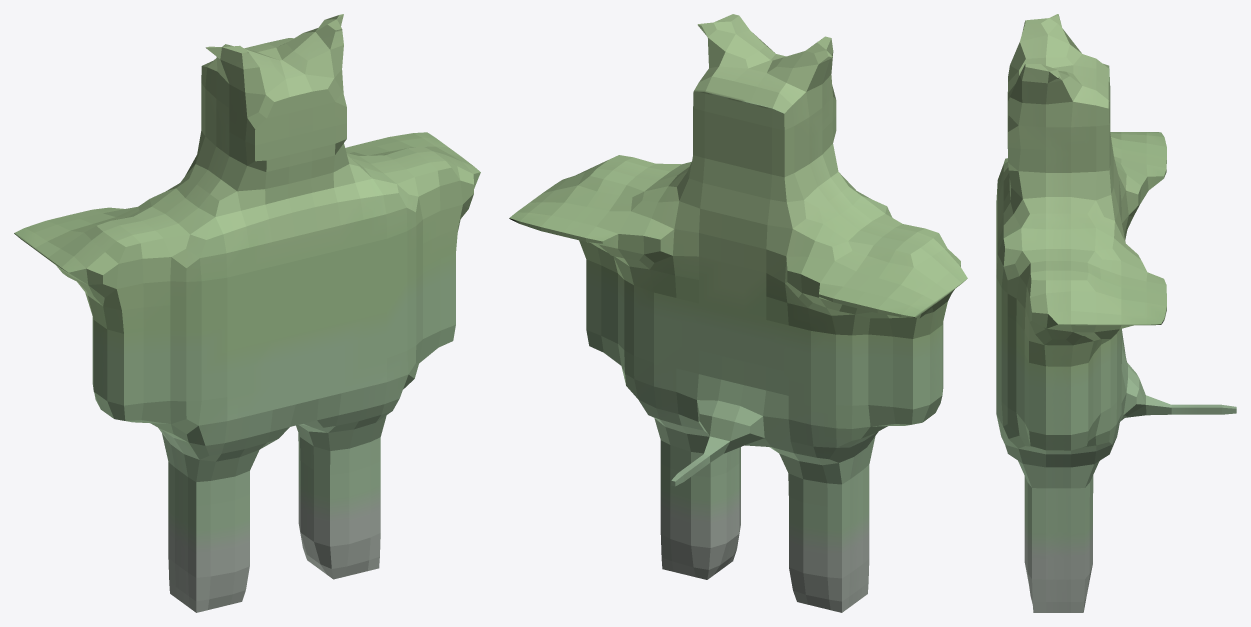
Rendered from incubus.glb.
3 renders of one model, left to right at view 1: azimuth 30°, elevation 25°; view 2: azimuth 150°, elevation 25°; view 3: azimuth 270°, elevation 25°, orthographic. The views are drawn at different scales.
Parts seen in each view (by area): view 1: geometry_0; view 2: geometry_0; view 3: geometry_0.
Part boxes in pixels (x1=…): geometry_0: x1=14, y1=14, x2=480, y2=612; geometry_0: x1=509, y1=14, x2=967, y2=612; geometry_0: x1=996, y1=14, x2=1236, y2=612.
Size of the model in its own units: 0.7553 by 0.963 by 0.3981.
Materials: 1 (1 with a texture image).
